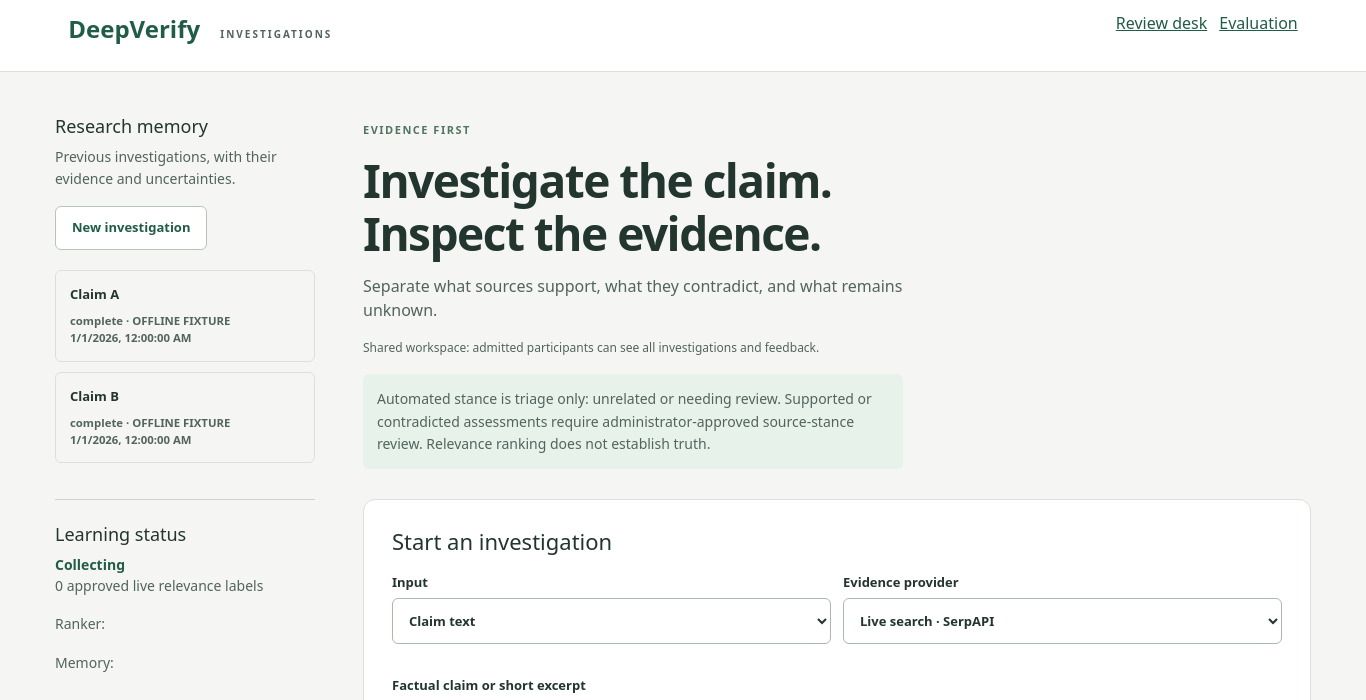
Test case: investigation navigation › polls to completion and refreshes history without overlapping requests
The image size is (1366, 700).
Click the button "Claim A complete · OFFLINE FIXTURE1/1/2026, 12:00:00 AM" at (185, 316), box [55,270,315,362]
Wait 10000 ms
(page scrolled)
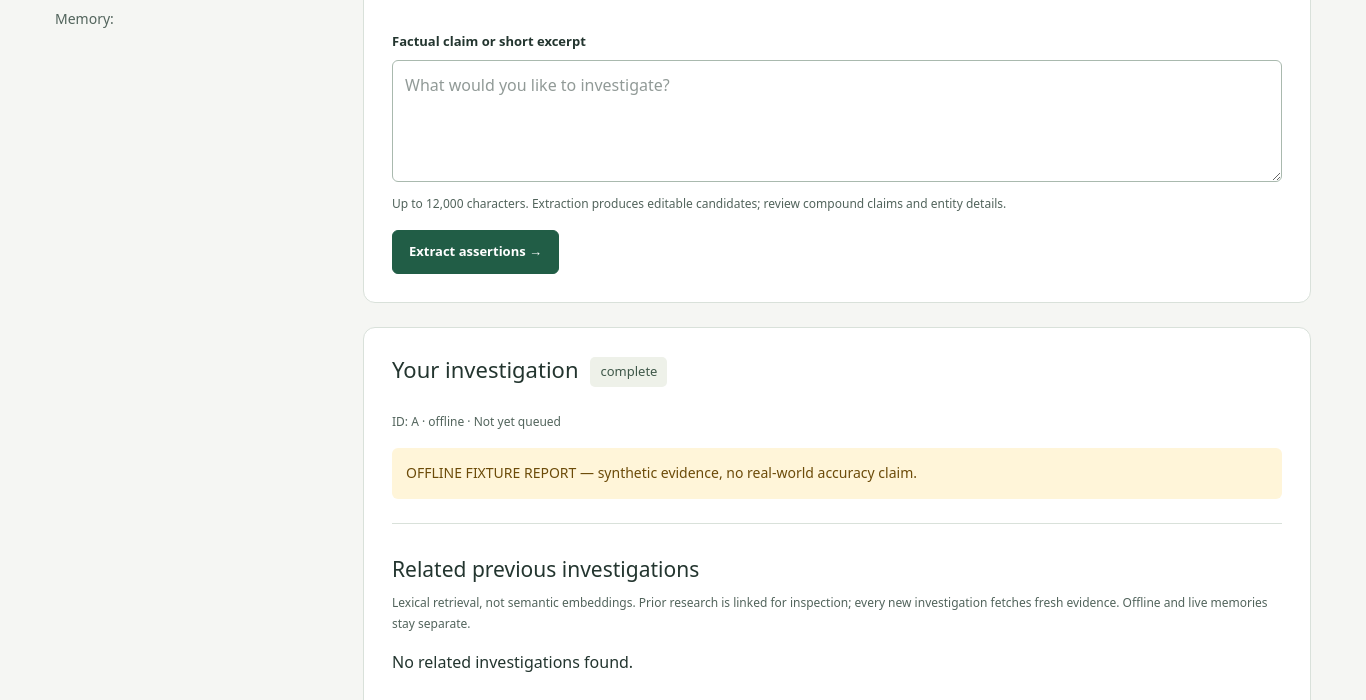
Check: the text "ID: A · offline · Not yet queued" is shown, box [392,413,561,430]
Check: the text "complete" is shown, box [590,357,668,387]
